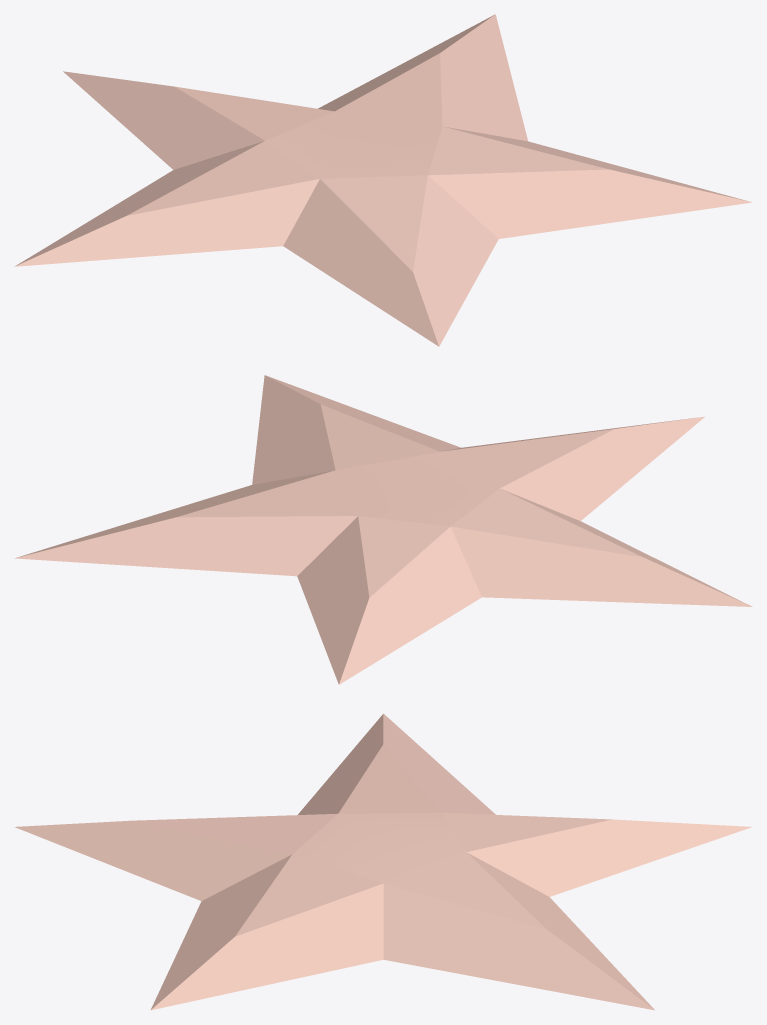
File: Prop_Starfish_2.glb
The picture shows the model from 3 angles, top to bottom: view 1: azimuth 30°, elevation 25°; view 2: azimuth 150°, elevation 25°; view 3: azimuth 270°, elevation 25°; orthographic projection. The views are drawn at different scales.
Visible parts, largest first — view 1: object1; view 2: object1; view 3: object1.
Boxes of the visible parts, left/top/right/bottom form: object1: left=14, top=14, right=752, bottom=346; object1: left=15, top=375, right=752, bottom=684; object1: left=15, top=713, right=751, bottom=1010.
Bounding box in the file's own units: 0.9045 × 0.05 × 0.9511.
